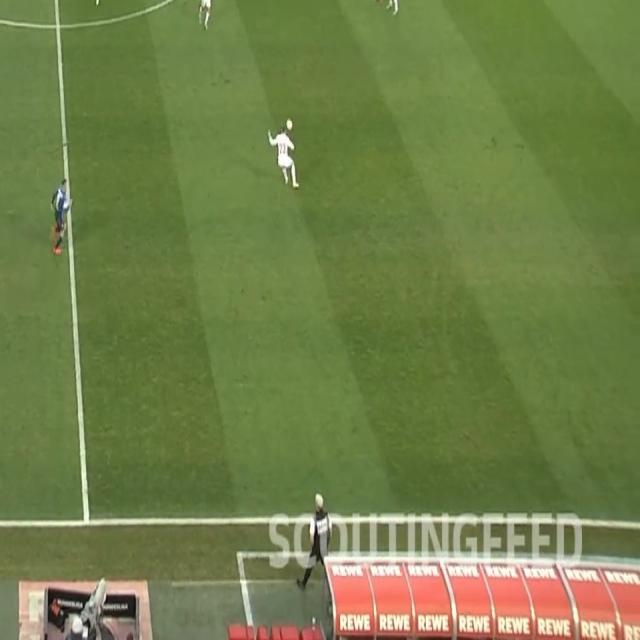ball: (286, 117, 294, 132)
